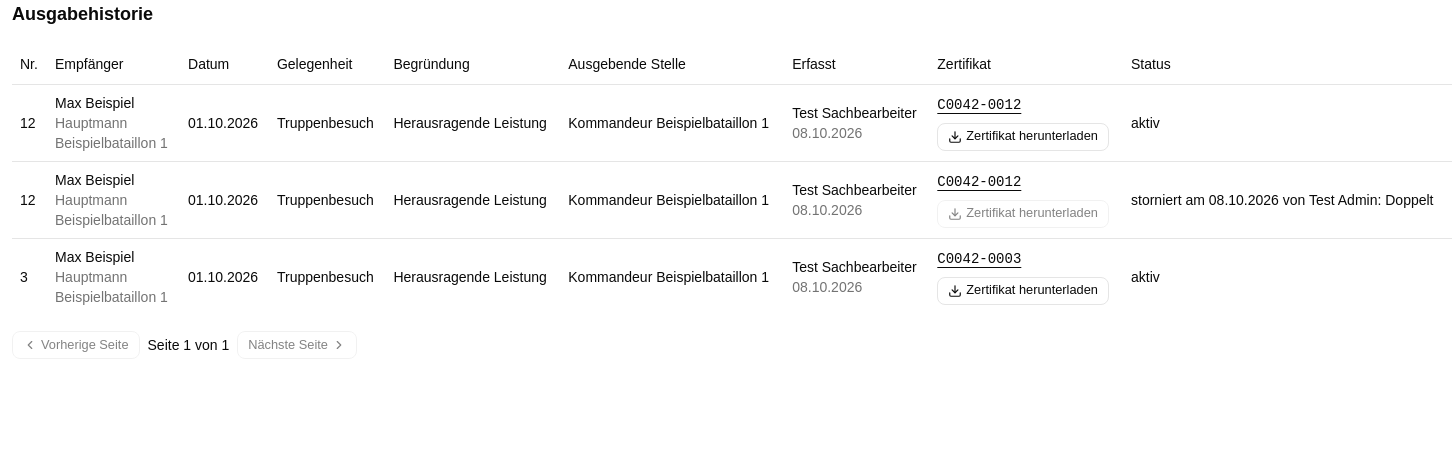
it: Button „Zertifikat herunterladen“ (AK-24, AK-29) › lädt nach 409 ausgabe_storniert die Historie neu und zeigt den Alarm
This screenshot has width=1452, height=460.
Click the button with aria-label "Zertifikat C0042-0003 herunterladen": coordinates (1023, 290) [937,276,1109,304]
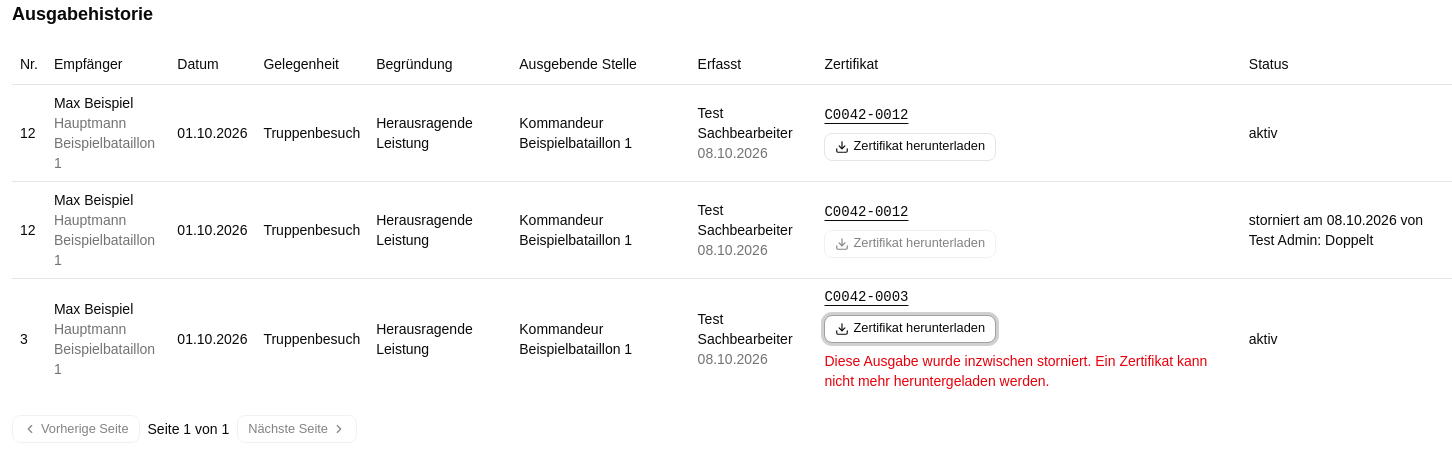
Result: the text "Diese Ausgabe wurde inzwischen storniert. Ein Zertifikat kann nicht mehr heruntergeladen werden." is shown at [824,352,1207,388]
